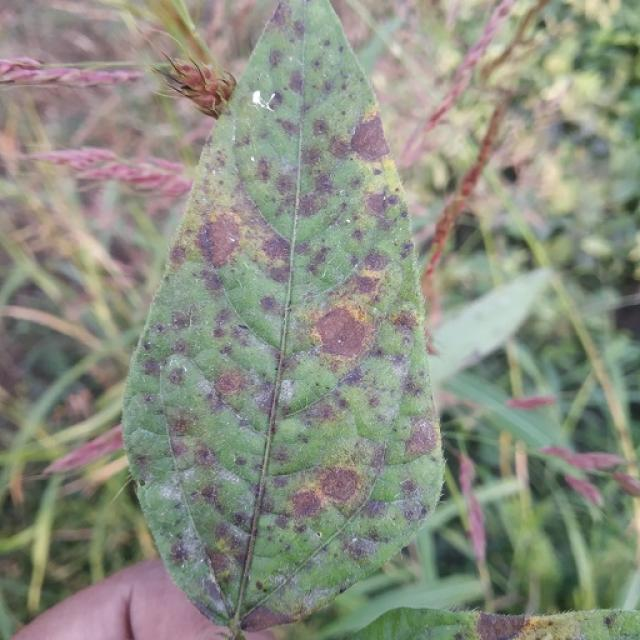Anthracnose: (313, 304, 375, 366), (200, 209, 248, 267), (302, 238, 352, 288), (348, 114, 392, 160), (314, 464, 362, 505), (475, 612, 536, 640), (239, 603, 295, 632), (292, 178, 331, 219), (401, 419, 439, 461), (256, 229, 294, 270), (363, 189, 396, 219), (214, 369, 246, 398), (200, 577, 228, 610), (346, 535, 379, 561), (208, 548, 233, 576), (268, 2, 291, 32), (277, 378, 296, 403), (169, 542, 189, 564), (166, 366, 185, 385), (260, 295, 279, 312), (268, 48, 284, 68), (268, 91, 284, 109), (400, 242, 413, 255), (604, 614, 616, 628), (269, 422, 278, 435), (142, 340, 152, 350), (137, 476, 146, 486), (255, 581, 264, 590), (338, 586, 347, 595), (234, 455, 242, 465), (453, 634, 466, 640), (238, 323, 249, 330), (314, 530, 322, 538), (323, 39, 330, 47)
Blackgram: (124, 0, 442, 628)
